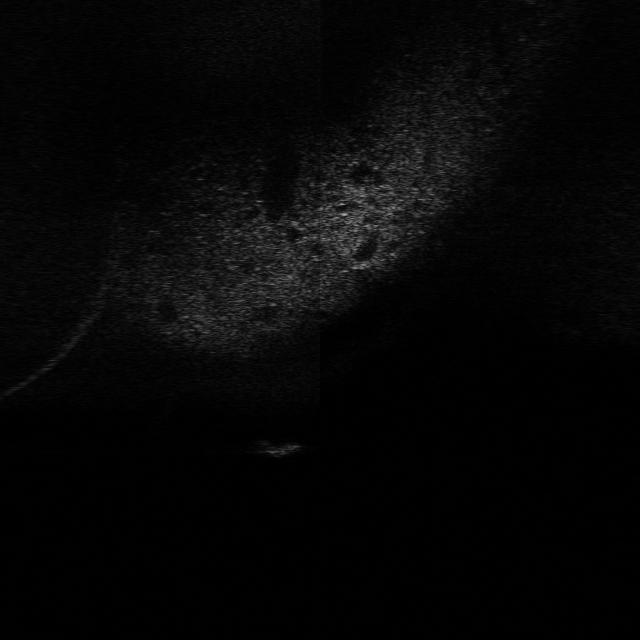cube: (247, 426, 306, 458)
